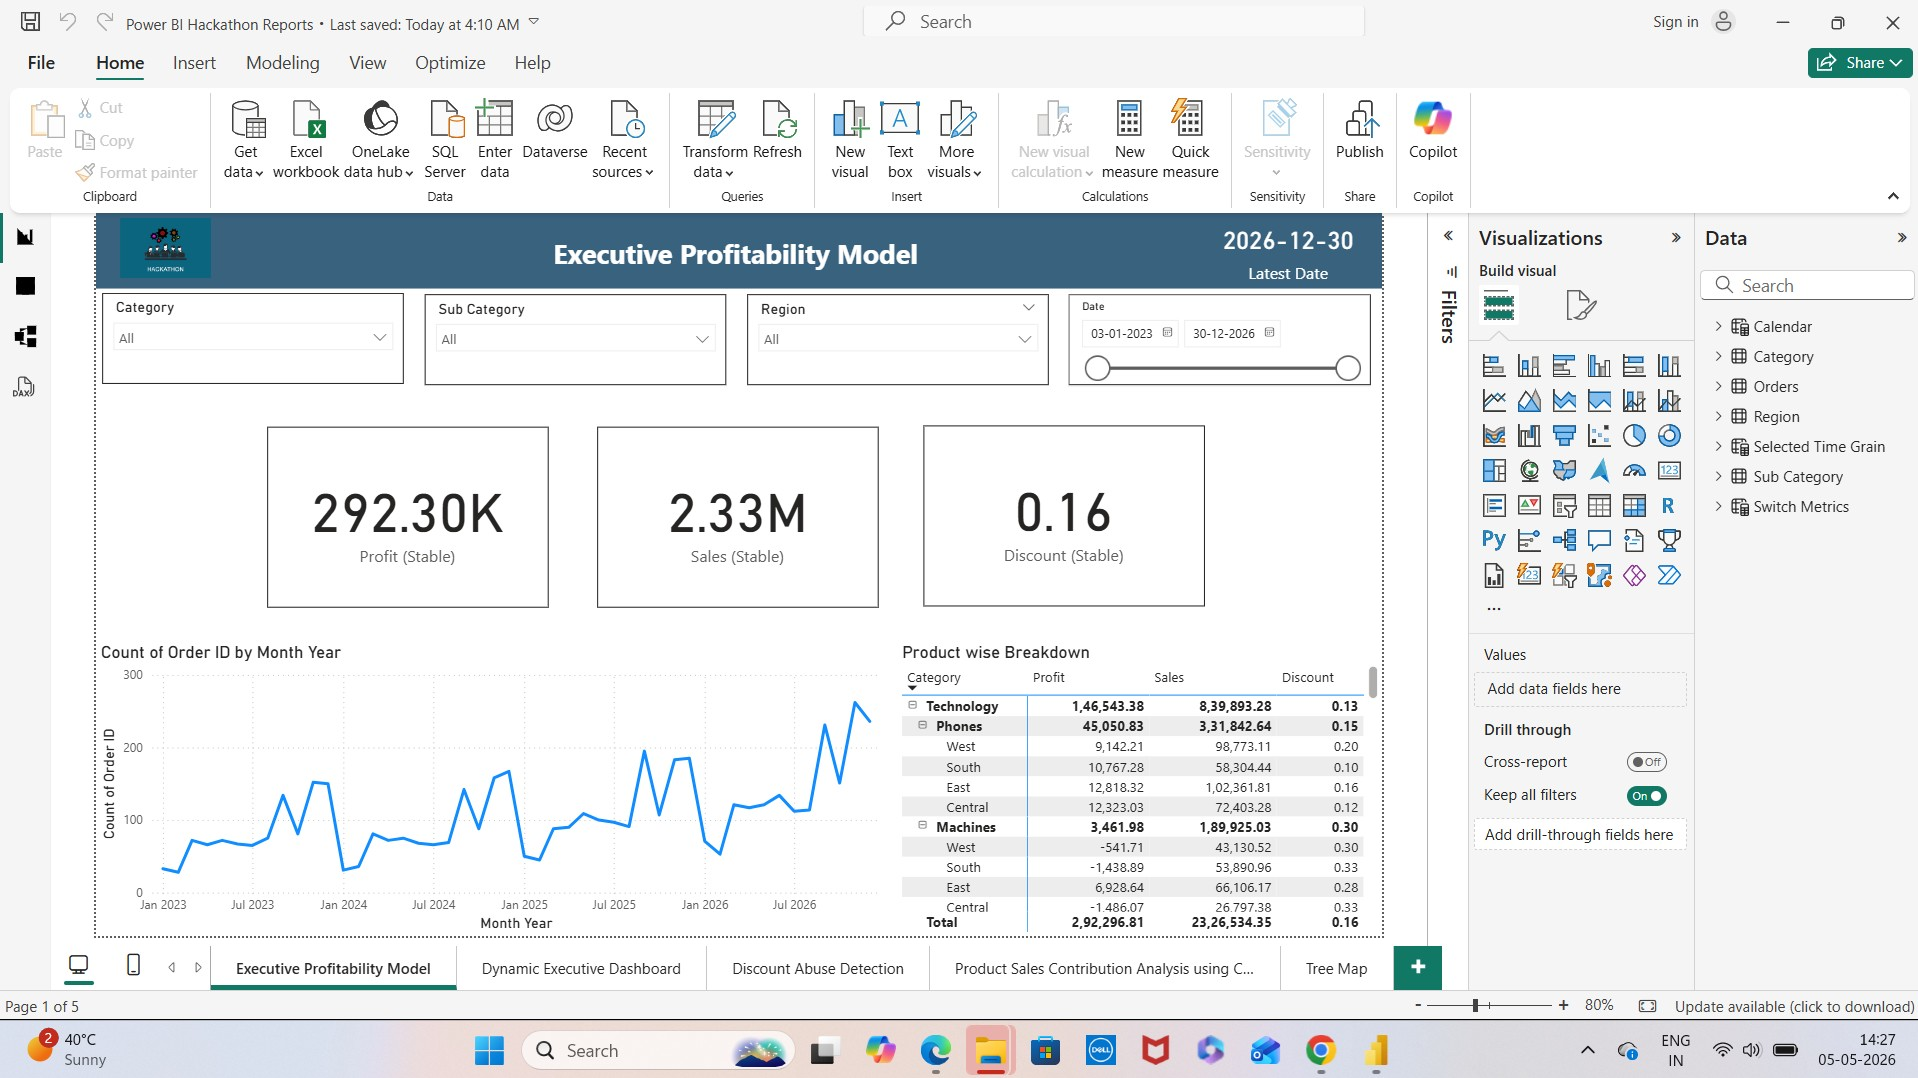

What the dashboard file says about the page in this screenshot:
{"tool":"powerbi","page":{"name":"Executive Profitability Model ","canvas":[1280,720],"ordinal":0},"visuals":[{"type":"pivotTable","title":"Product wise Breakdown","fields":{"Rows":["Executive Profitability Model.Category","Executive Profitability Model.Sub-Category","Executive Profitability Model.Region"],"Values":["Executive Profitability Model.Stable Profit","Executive Profitability Model.Total Sales","Executive Profitability Model.Stable Discount"]},"box":[797.3,426.8,483,293.7],"z":0},{"type":"slicer","fields":{"Values":["Category.Category"]},"box":[6.3,80,300,90],"z":1000},{"type":"slicer","fields":{"Values":["Sub Category.Sub-Category"]},"box":[326.6,81,300,90],"z":2000},{"type":"slicer","fields":{"Values":["Region.Region"]},"box":[647.7,81,300,90],"z":3000},{"type":"card","fields":{"Values":["Executive Profitability Model.St_profit"]},"box":[170.3,212.9,280,180],"z":4000},{"type":"card","fields":{"Values":["Executive Profitability Model.St_Sales"]},"box":[498.3,212.9,280,180],"z":5000},{"type":"card","fields":{"Values":["Executive Profitability Model.St_Discount"]},"box":[823.5,211.6,280,180],"z":6000},{"type":"textbox","title":"Executive","box":[0,0,1280.3,75],"z":7000},{"type":"lineChart","fields":{"Category":["Calender.Month Year"],"Y":["Count(Executive Profitability Model.Order ID)"]},"box":[0,426.8,797.3,293.7],"z":8000},{"type":"image","box":[0,0,138.6,70],"z":9000},{"type":"slicer","fields":{"Values":["Calender.Date"]},"box":[967.4,81,300.5,90.6],"z":10000},{"type":"card","fields":{"Values":["Max(Calendar.Date)"]},"box":[1104.6,2.5,164.2,69.7],"z":11000}]}

Visuals, with their boxes on the page's 1280x720 design canvas (x1, y1, x2, y2). These are canvas units, not pixel positions in the 1918x1078 screenshot, which may show the page scaled, cropped or inside an application window:
"Product wise Breakdown" pivotTable: (left=797, top=427, right=1280, bottom=720)
slicer - Category.Category: (left=6, top=80, right=306, bottom=170)
slicer - Sub Category.Sub-Category: (left=327, top=81, right=627, bottom=171)
slicer - Region.Region: (left=648, top=81, right=948, bottom=171)
card - Executive Profitability Model.St_profit: (left=170, top=213, right=450, bottom=393)
card - Executive Profitability Model.St_Sales: (left=498, top=213, right=778, bottom=393)
card - Executive Profitability Model.St_Discount: (left=824, top=212, right=1104, bottom=392)
"Executive" textbox: (left=0, top=0, right=1280, bottom=75)
lineChart - Calender.Month Year x Count(Executive Profitability Model.Order ID): (left=0, top=427, right=797, bottom=720)
image: (left=0, top=0, right=139, bottom=70)
slicer - Calender.Date: (left=967, top=81, right=1268, bottom=172)
card - Max(Calendar.Date): (left=1105, top=2, right=1269, bottom=72)
